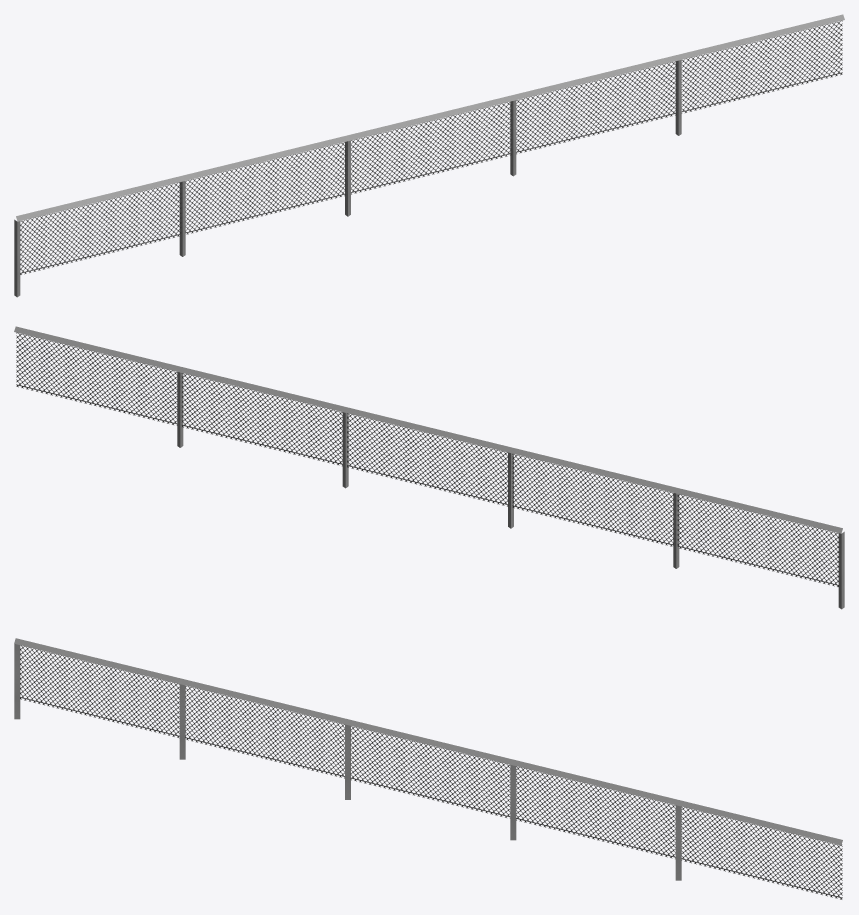
The model's file is fence-chainlink-1rail-5s-cbj_LOD01.gltf.
The picture shows the model from 3 angles, top to bottom: view 1: azimuth 30°, elevation 25°; view 2: azimuth 150°, elevation 25°; view 3: azimuth 330°, elevation 25°; orthographic projection.
Parts seen in each view (by area): view 1: chainlink01; view 2: chainlink01; view 3: chainlink01.
Part boxes in pixels (x1,y1,x2,y2): chainlink01: (14,14,844,297); chainlink01: (14,326,844,609); chainlink01: (14,638,842,899).
Size of the model in its own units: 14.36 by 1.33 by 0.11.
